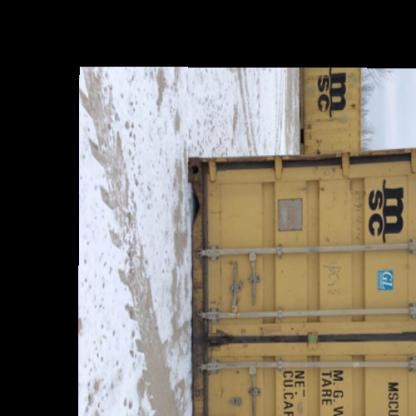Damage: (193, 324, 243, 354), (320, 255, 348, 303), (352, 186, 374, 241), (301, 122, 325, 156), (190, 158, 214, 190), (300, 180, 330, 196), (349, 100, 358, 113)
